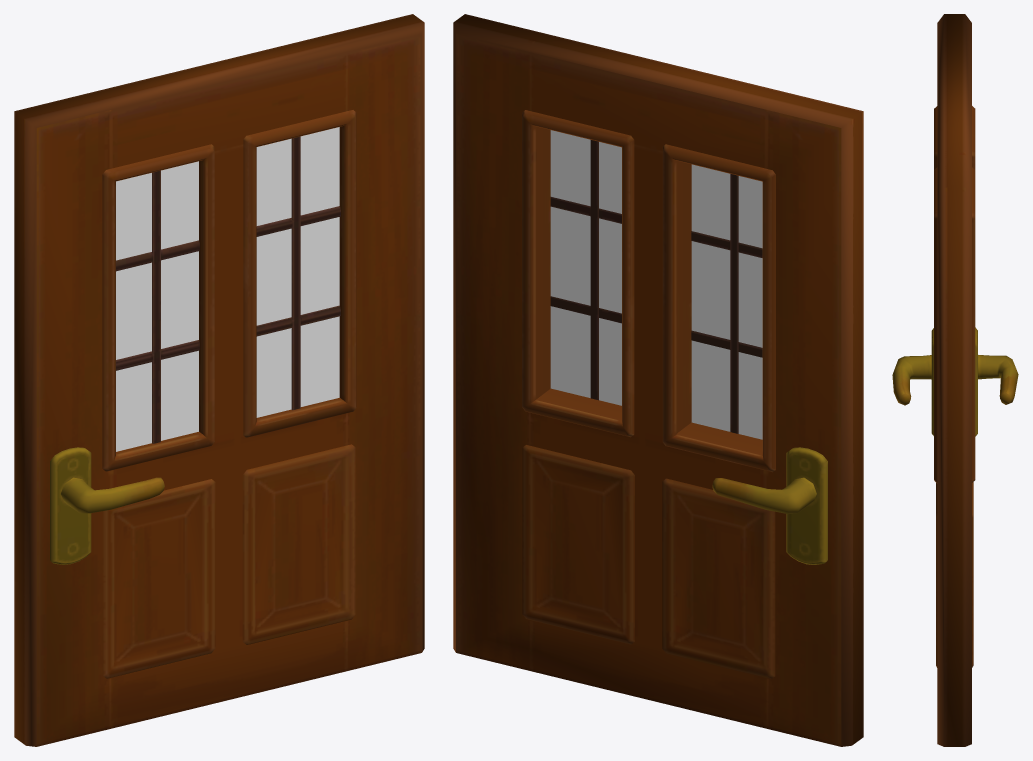
File: door_vertical_window_as.glb
3 renders of one model, left to right at view 1: azimuth 30°, elevation 25°; view 2: azimuth 150°, elevation 25°; view 3: azimuth 270°, elevation 25°, orthographic. The views are drawn at different scales.
Parts seen in each view (by area): view 1: DoorBaseS_10__mDoorS, DoorBaseS_1__mWindowGlass; view 2: DoorBaseS_10__mDoorS, DoorBaseS_1__mWindowGlass; view 3: DoorBaseS_10__mDoorS.
Boxes of the visible parts, x1,y1,x2,y2 form: DoorBaseS_10__mDoorS: [14, 14, 424, 746]; DoorBaseS_1__mWindowGlass: [116, 127, 339, 451]; DoorBaseS_10__mDoorS: [453, 14, 863, 746]; DoorBaseS_1__mWindowGlass: [550, 130, 762, 439]; DoorBaseS_10__mDoorS: [892, 14, 1018, 746].
Bounding box in the file's own units: 12 × 18 × 3.68.
Materials: 2 (1 with a texture image).
